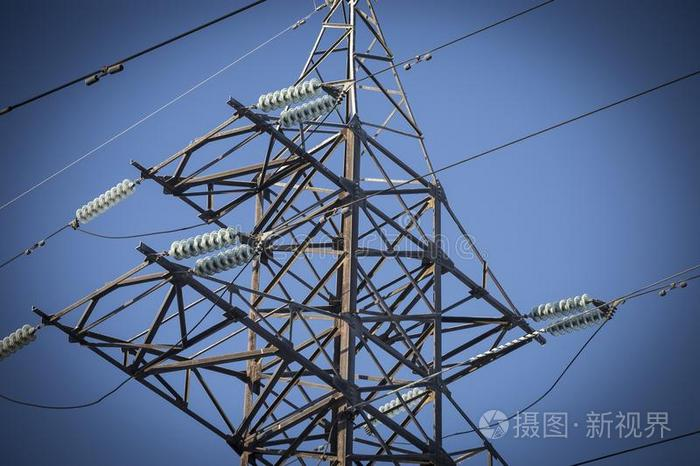insulator: (74, 180, 131, 225), (173, 227, 240, 259), (259, 80, 323, 109), (194, 248, 258, 275), (279, 98, 335, 127), (528, 293, 592, 318), (548, 309, 603, 338), (379, 385, 423, 419), (1, 325, 34, 358)
